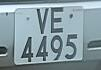4: (19, 33, 36, 64), (34, 33, 50, 63)
5: (63, 33, 79, 62)
9: (49, 33, 64, 62)
E: (49, 6, 68, 37)
V: (33, 5, 52, 38)
